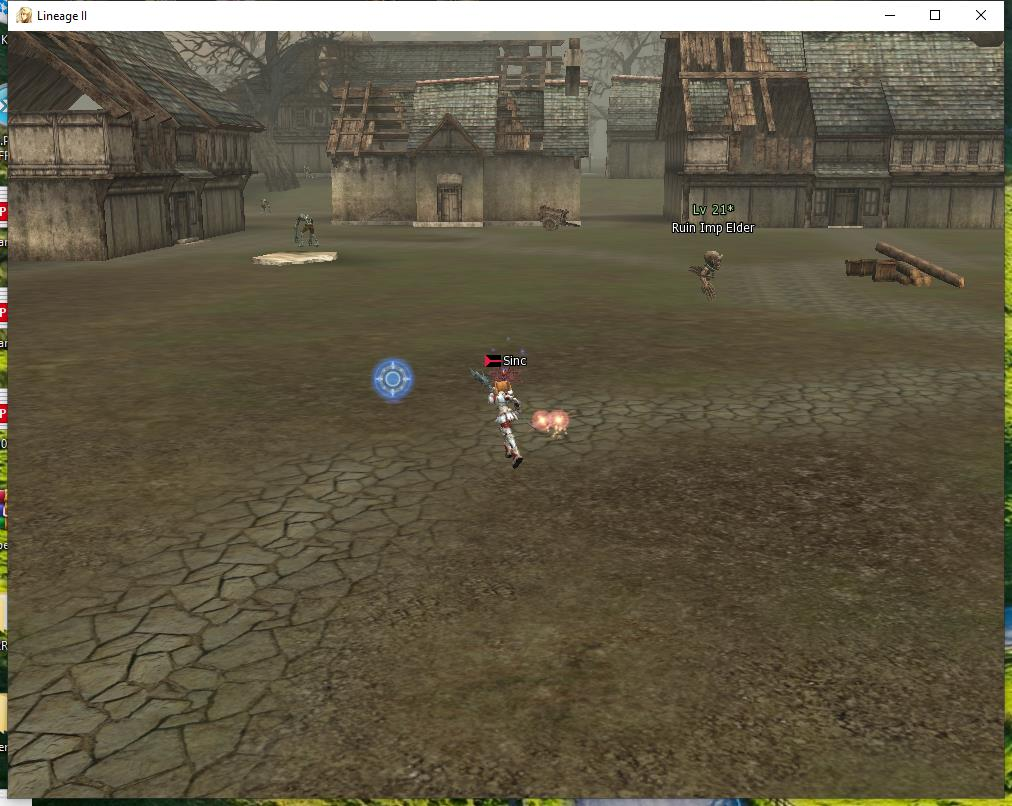monster: (667, 198, 759, 305), (296, 209, 334, 255), (258, 193, 270, 216)
